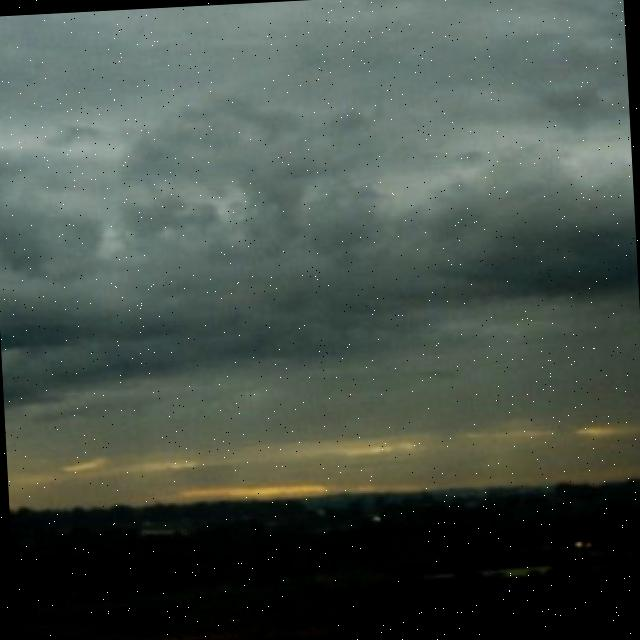Ns: (1, 54, 640, 452)
